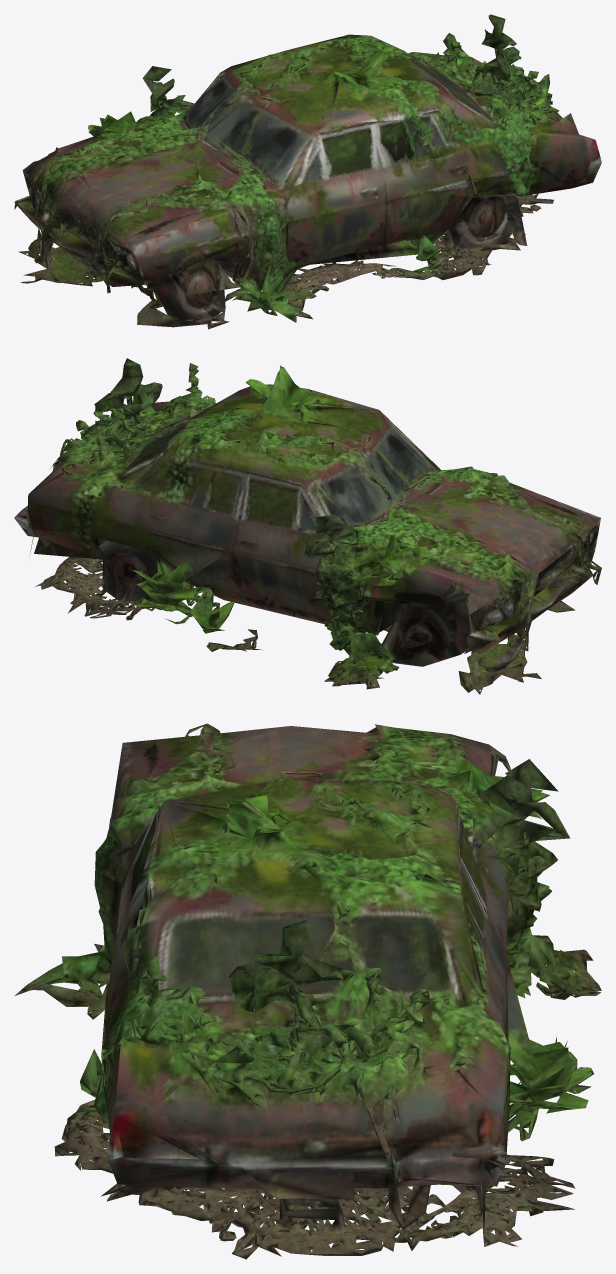
The model's file is car_ruin.glb.
3 views of the same model, one above another, from view 1: azimuth 30°, elevation 25°; view 2: azimuth 150°, elevation 25°; view 3: azimuth 270°, elevation 25° (orthographic). The views are drawn at different scales.
Parts seen in each view (by area): view 1: frame; view 2: frame; view 3: frame.
Boxes of the visible parts, box(x1,y1,x2,y2) form: frame: box(14, 14, 601, 329); frame: box(14, 358, 601, 694); frame: box(15, 723, 601, 1259).
Size of the model in its own units: 4.49 by 1.74 by 2.75.
1 material, 1 textured.
